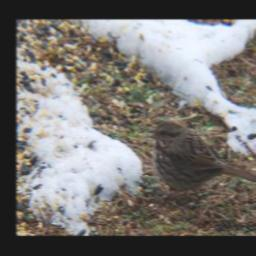Sparrow: (146, 118, 256, 204)
